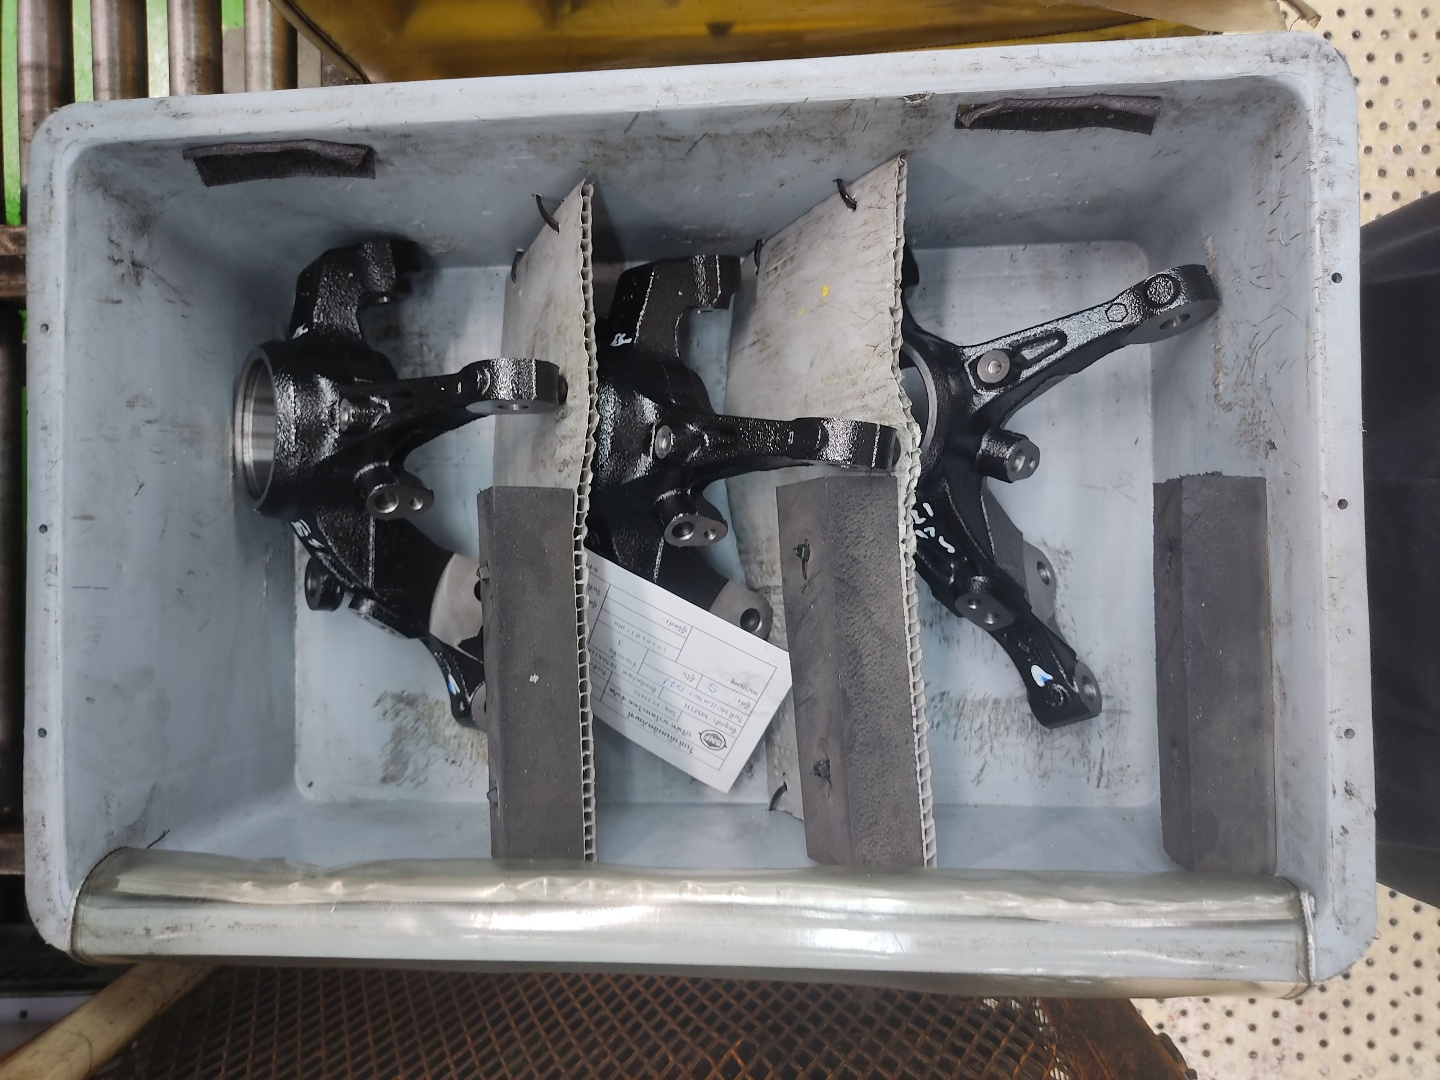abs-rh: (219, 223, 576, 742), (890, 223, 1233, 746), (587, 235, 903, 775)
